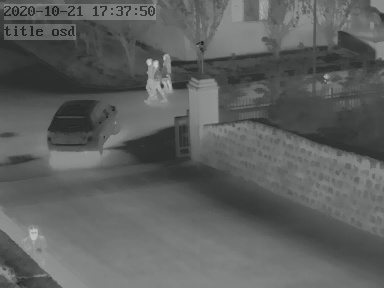person: (21, 224, 47, 264), (144, 55, 160, 102), (161, 52, 174, 96)
vehicle: (46, 99, 131, 156)
